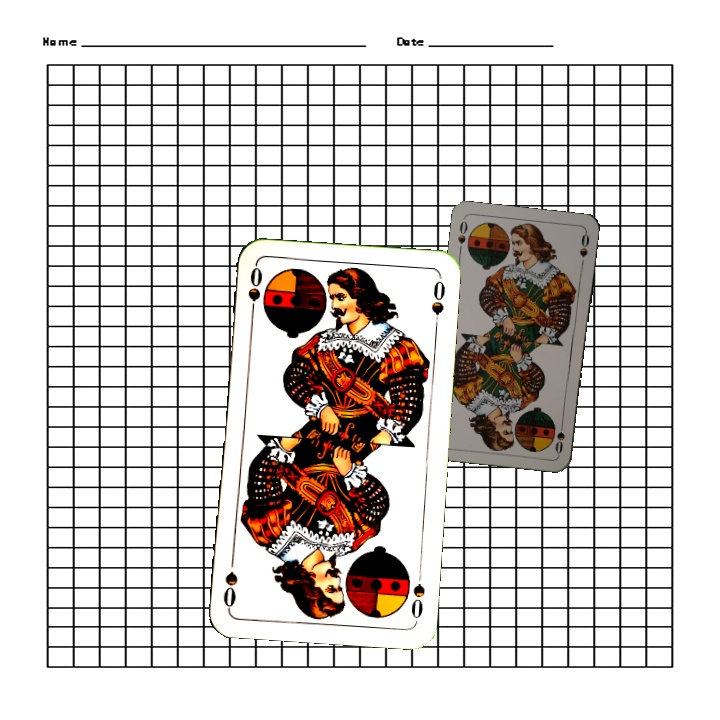SO: (407, 564, 428, 624), (244, 263, 265, 322), (551, 416, 567, 456), (454, 217, 470, 256)
